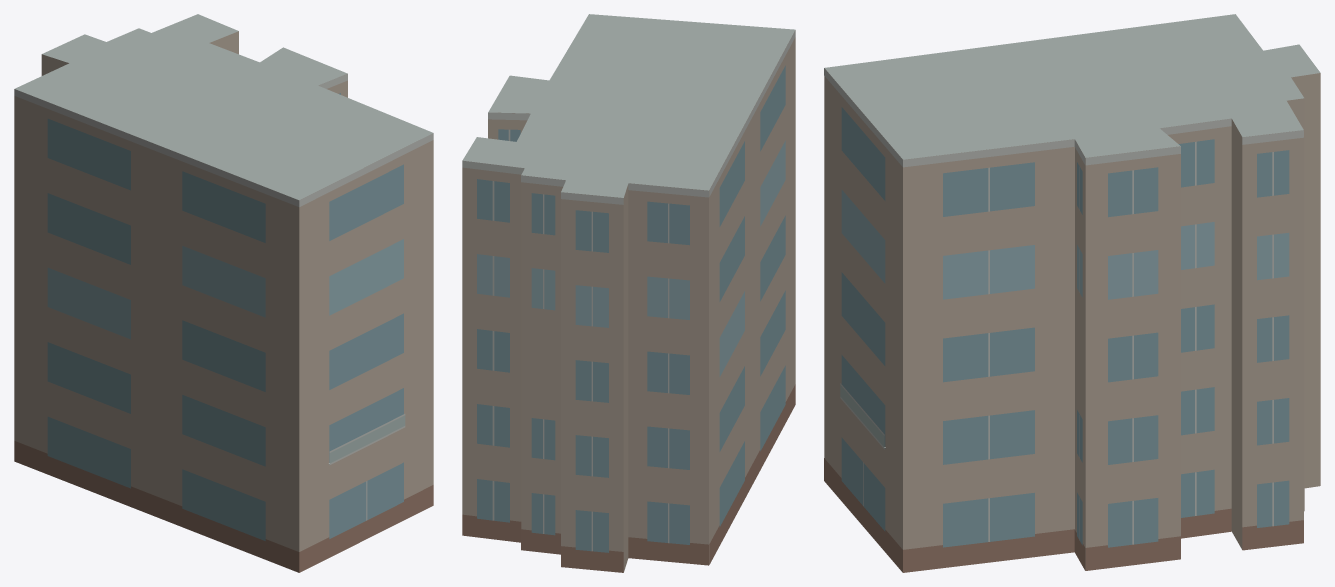
The model's file is survey-upis-32752492.glb.
3 renders of one model, left to right at view 1: azimuth 30°, elevation 25°; view 2: azimuth 150°, elevation 25°; view 3: azimuth 270°, elevation 25°, orthographic. The views are drawn at different scales.
Visible parts, largest first — view 1: survey-upis-32752492.tmp; view 2: survey-upis-32752492.tmp; view 3: survey-upis-32752492.tmp.
Boxes of the visible parts, box(x1,y1,x2,y2) form: survey-upis-32752492.tmp: box(14, 14, 433, 572); survey-upis-32752492.tmp: box(462, 14, 795, 572); survey-upis-32752492.tmp: box(824, 14, 1320, 572).
Size of the model in its own units: 10 by 13.2 by 14.39.
